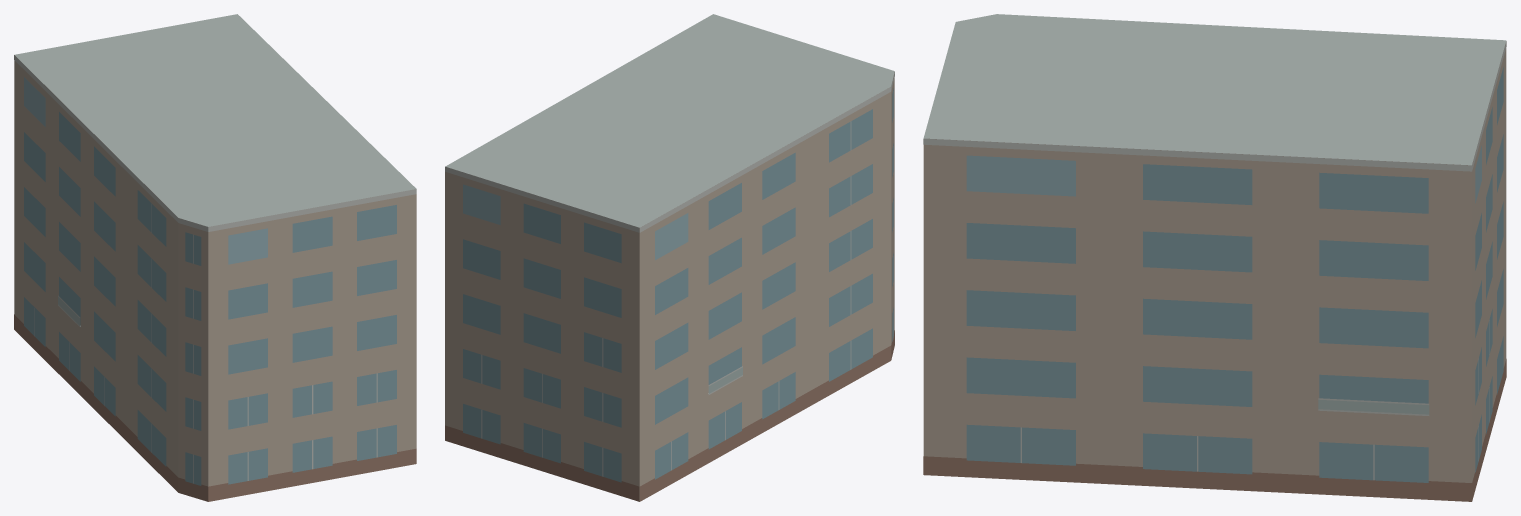
File: survey-upis-32609342.glb
3 views of the same model, side by side, from view 1: azimuth 30°, elevation 25°; view 2: azimuth 150°, elevation 25°; view 3: azimuth 270°, elevation 25° (orthographic). The views are drawn at different scales.
Parts seen in each view (by area): view 1: survey-upis-32609342.tmp; view 2: survey-upis-32609342.tmp; view 3: survey-upis-32609342.tmp.
Part boxes in pixels (x1=…): survey-upis-32609342.tmp: x1=14, y1=14, x2=416, y2=501; survey-upis-32609342.tmp: x1=445, y1=14, x2=894, y2=501; survey-upis-32609342.tmp: x1=923, y1=14, x2=1506, y2=501.
Size of the model in its own units: 12.64 by 13.1 by 20.58.
